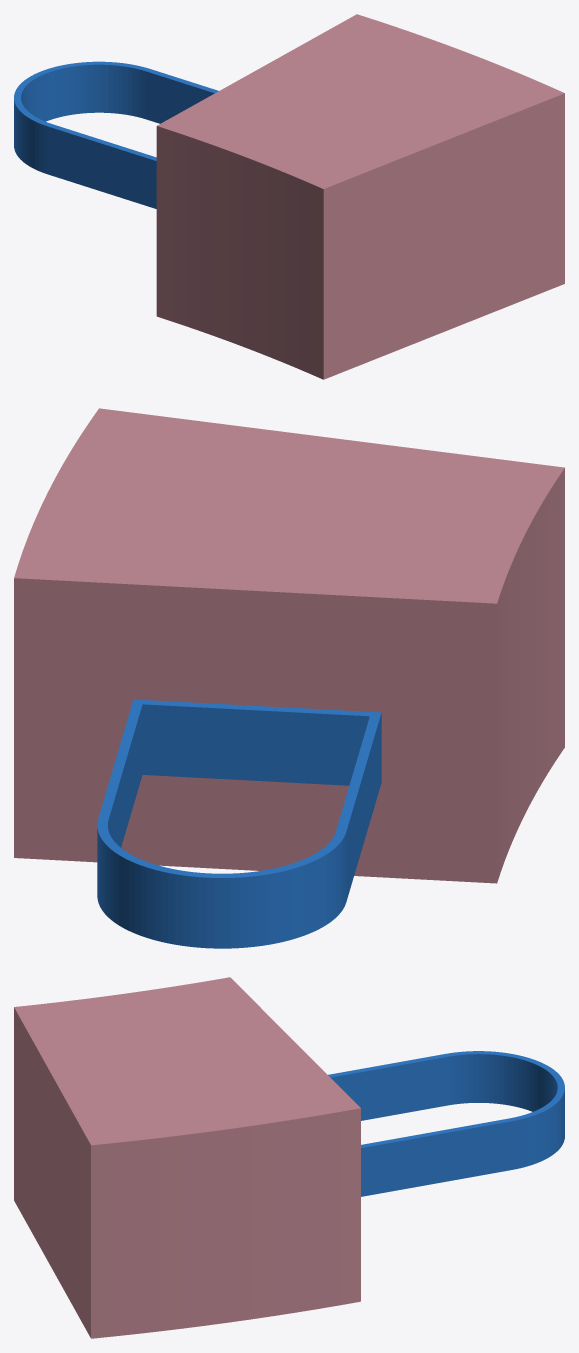
The model's file is door.fbx.
3 renders of one model, top to bottom at view 1: azimuth 30°, elevation 25°; view 2: azimuth 150°, elevation 25°; view 3: azimuth 270°, elevation 25°, orthographic. The views are drawn at different scales.
Visible parts, largest first — view 1: vertical platform, door; view 2: vertical platform, door; view 3: vertical platform, door.
Part boxes in pixels (left/top/right/bottom): vertical platform: left=156, top=14, right=564, bottom=379; door: left=14, top=61, right=218, bottom=208; vertical platform: left=14, top=408, right=564, bottom=883; door: left=97, top=699, right=381, bottom=948; vertical platform: left=14, top=977, right=360, bottom=1338; door: left=328, top=1051, right=564, bottom=1196.
Size of the model in its own units: 166 by 86.84 by 224.
